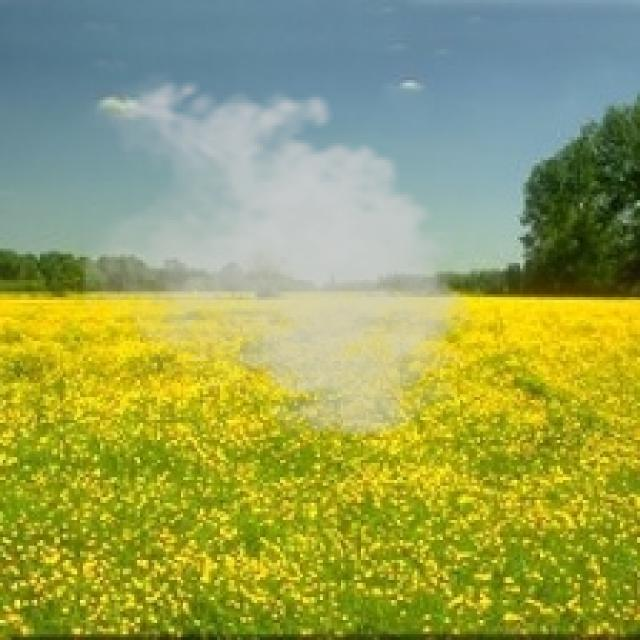smoke: (80, 68, 486, 446)
